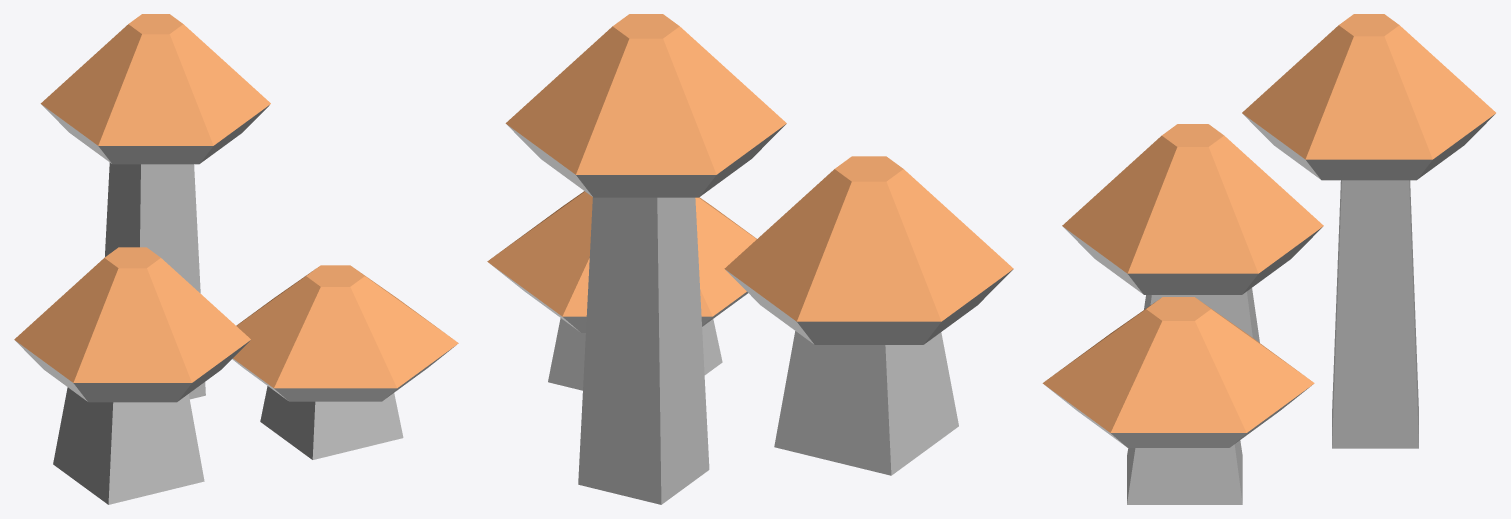
The model's file is mushroom_tanGroup.obj.
3 views of the same model, side by side, from view 1: azimuth 30°, elevation 25°; view 2: azimuth 150°, elevation 25°; view 3: azimuth 270°, elevation 25° (orthographic). The views are drawn at different scales.
Parts seen in each view (by area): view 1: Mesh mushroom_tanGroup-1, Mesh mushroom_tanGroup-0; view 2: Mesh mushroom_tanGroup-1, Mesh mushroom_tanGroup-0; view 3: Mesh mushroom_tanGroup-1, Mesh mushroom_tanGroup-0.
Boxes of the visible parts, x1,y1,x2,y2 form: Mesh mushroom_tanGroup-1: (14, 14, 458, 388); Mesh mushroom_tanGroup-0: (15, 104, 454, 504); Mesh mushroom_tanGroup-1: (487, 14, 1013, 321); Mesh mushroom_tanGroup-0: (490, 124, 1013, 504); Mesh mushroom_tanGroup-1: (1042, 14, 1495, 432); Mesh mushroom_tanGroup-0: (1046, 114, 1494, 504).
Bounding box in the file's own units: 0.2696 × 0.2505 × 0.2542.
